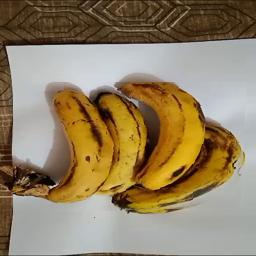Banana Semifresh: (13, 82, 247, 214)
